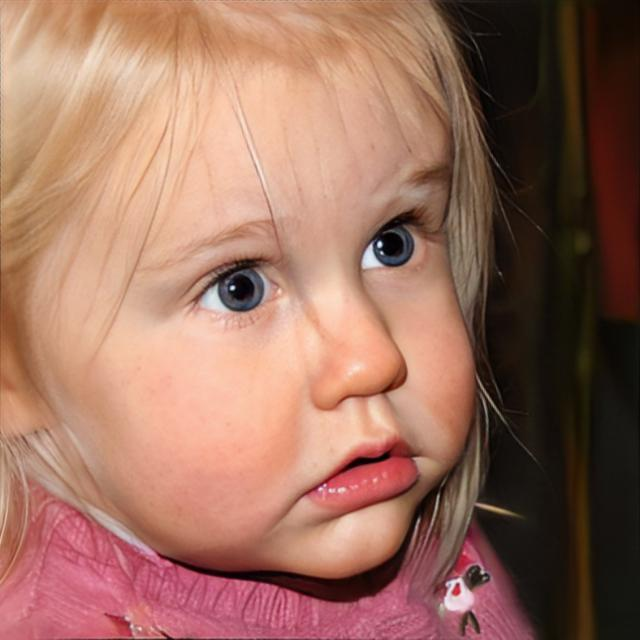Fear: (20, 0, 480, 583)
